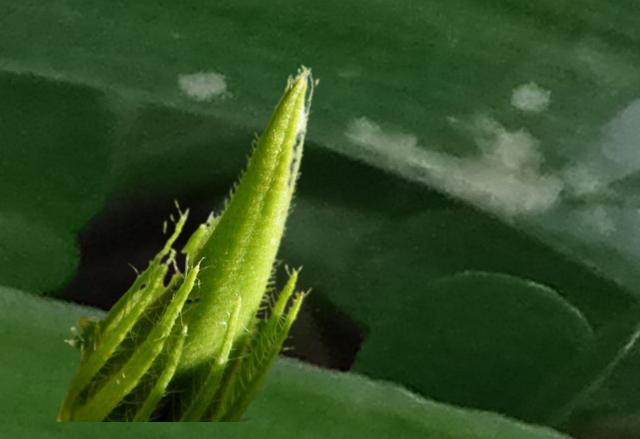okra: (52, 63, 319, 420)
